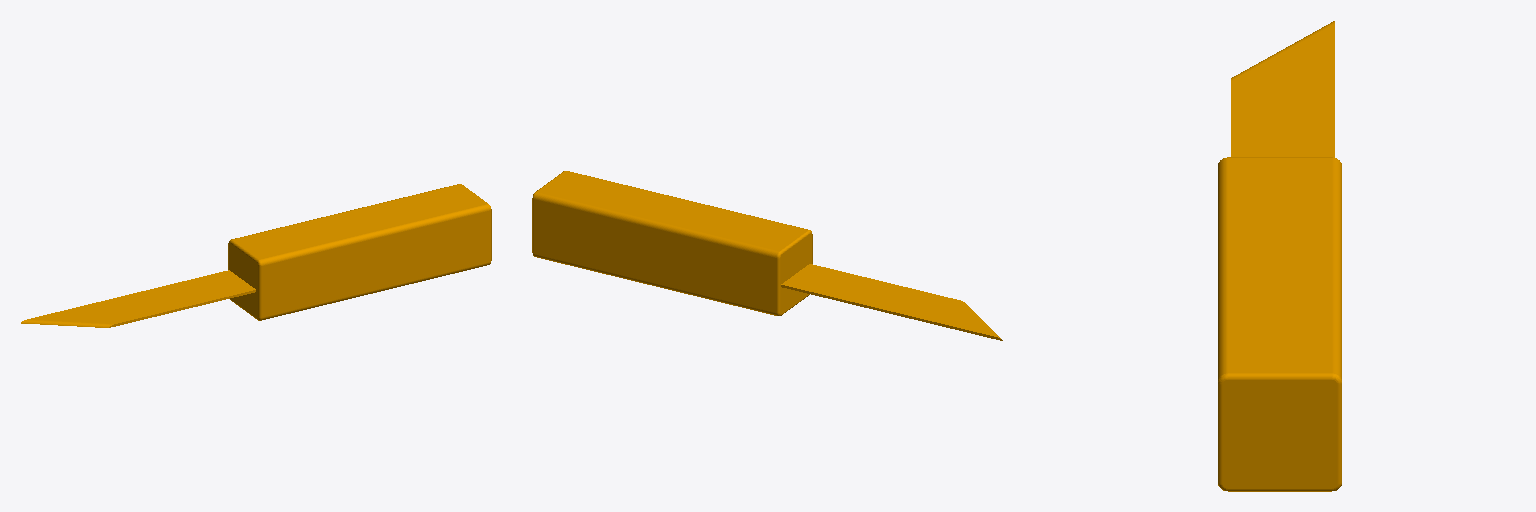
URDF robot description (knife_metal):
<?xml version="1.0"?>
<robot name="knife_metal"> 
  <link name="base_link">
  <contact>
      <lateral_friction value="1"/>
  </contact>
    <inertial>
      <origin xyz="0 0 0" rpy="0 0 0" />
      <mass value="0.0478" /> 
      <inertia ixx="0" ixy="0" ixz="0" iyy="0" iyz="0" izz="0" />
    </inertial>
    <visual>
      <origin xyz="0 0 0" rpy="0 0 0" />
      <geometry>
          <mesh filename="knife_metal.obj"/>
      </geometry>
      <material name="blue">
        <color rgba="0.2, 0.6, 1.0, 1" />
      </material>
    </visual>
    <collision>
      <origin xyz="0 0 0" rpy="0 0 0" />
      <geometry>
          <mesh filename="knife_metal.obj"/>
      </geometry>
    </collision>
  </link>

  <link name="tip"/>
  <joint name="tip_joint" type="fixed">
    <origin rpy="0 0 0" xyz="-0.14 -0.03 0"/>
    <axis xyz="0 0 1"/>
    <parent link="base_link"/>
    <child link="tip"/>
  </joint>

  <link name="com"/>
  <joint name="com_joint" type="fixed">
    <origin rpy="0 0 0" xyz="-0.05 0 0"/> <!-- NEED TO DOUBLE CHECK-->
    <axis xyz="0 0 1"/>
    <parent link="base_link"/>
    <child link="com"/>
  </joint>


</robot>

--- Facts derived from the render (not from the file) ---
Views: 3 orthographic renders of the robot side by side, from view 1: azimuth 30°, elevation 25°; view 2: azimuth 150°, elevation 25°; view 3: azimuth 270°, elevation 25°.
Model knife_metal with 3 links and 2 joints (2 fixed), rooted at base_link, posed all joints at 0.
Visible links, largest first — view 1: base_link; view 2: base_link; view 3: base_link.
Boxes of the visible links, left/top/right/bottom form: base_link: left=21, top=184, right=491, bottom=327; base_link: left=532, top=171, right=1002, bottom=340; base_link: left=1218, top=21, right=1341, bottom=491.
Size in the robot's own frame: 0.1897 by 0.024 by 0.025 metres.
1 mesh visuals loaded from 1 distinct referenced files (1 OBJ).